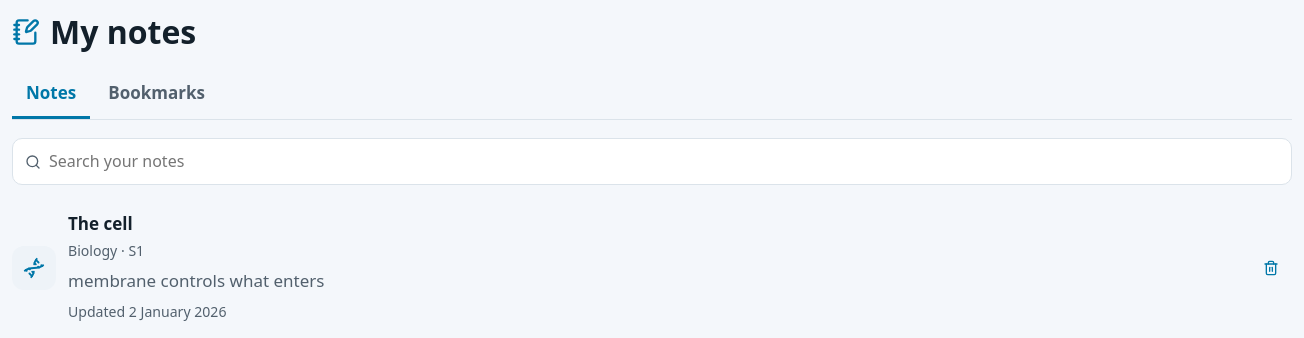
Scenario: My notes › lists notes and searches them
Expected: the text "The cell" is shown, [68,212,133,235]
Expected: the text "membrane controls what enters" is shown, [68,269,324,292]
Type "nothing" into the search field labelled "Search your notes" at point(664, 162), box [49,139,1279,184]
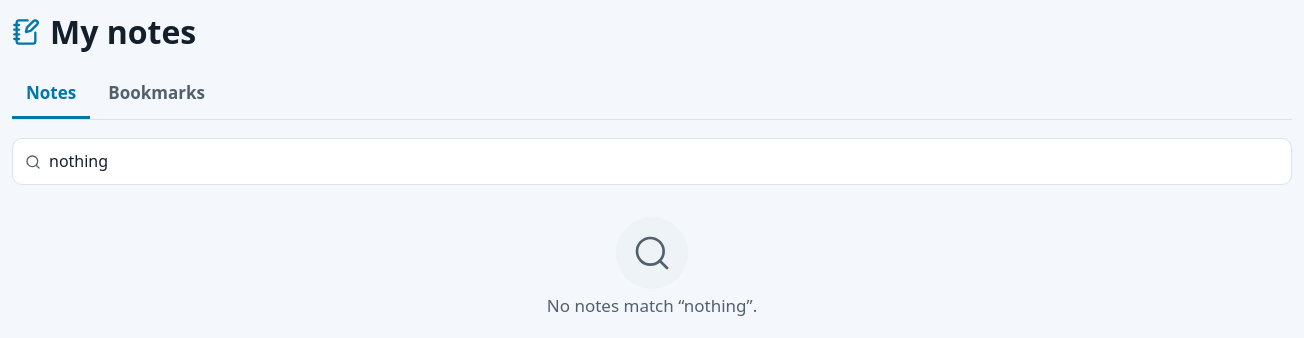
Now the text "No notes match “nothing”." is shown, box [547,294,757,317]
